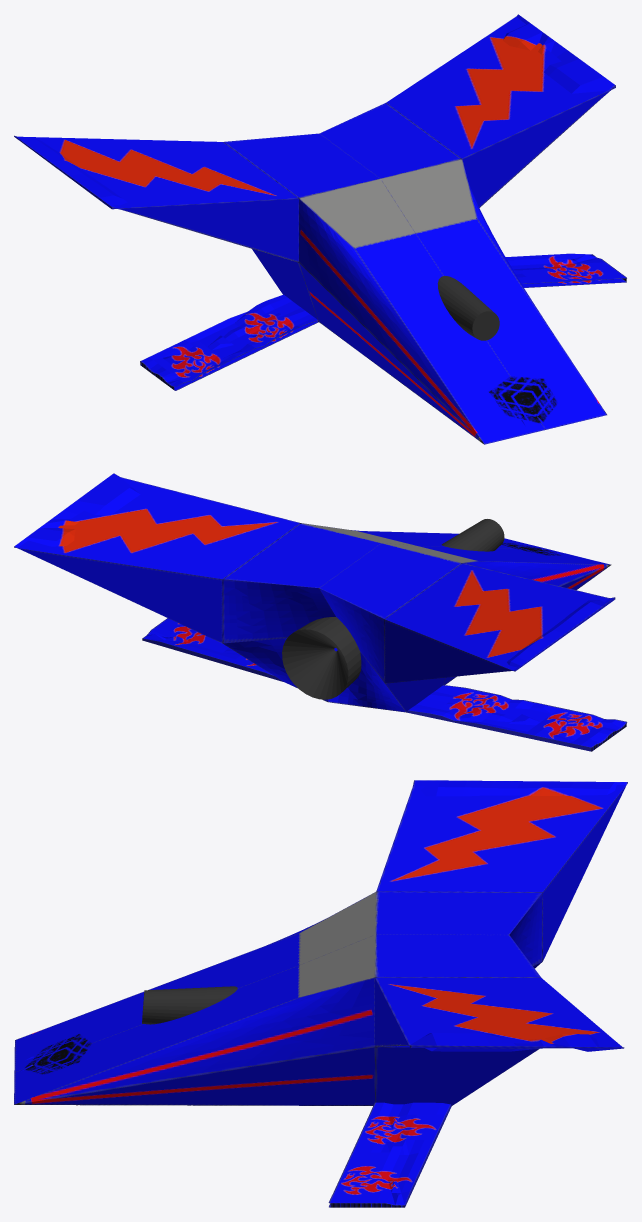
File: spaceship1.fbx
3 renders of one model, top to bottom at view 1: azimuth 30°, elevation 25°; view 2: azimuth 150°, elevation 25°; view 3: azimuth 270°, elevation 25°, orthographic. The views are drawn at different scales.
Visible parts, largest first — view 1: Cube, Cylinder; view 2: Cube, Cylinder; view 3: Cube, Cylinder.
Boxes of the visible parts, left/top/right/bottom form: Cube: left=14, top=14, right=626, bottom=444; Cylinder: left=437, top=275, right=499, bottom=340; Cube: left=14, top=473, right=627, bottom=751; Cylinder: left=282, top=519, right=504, bottom=699; Cube: left=14, top=780, right=627, bottom=1207; Cylinder: left=142, top=986, right=237, bottom=1024.
Bounding box in the file's own units: 8.2 × 2.53 × 8.01.
